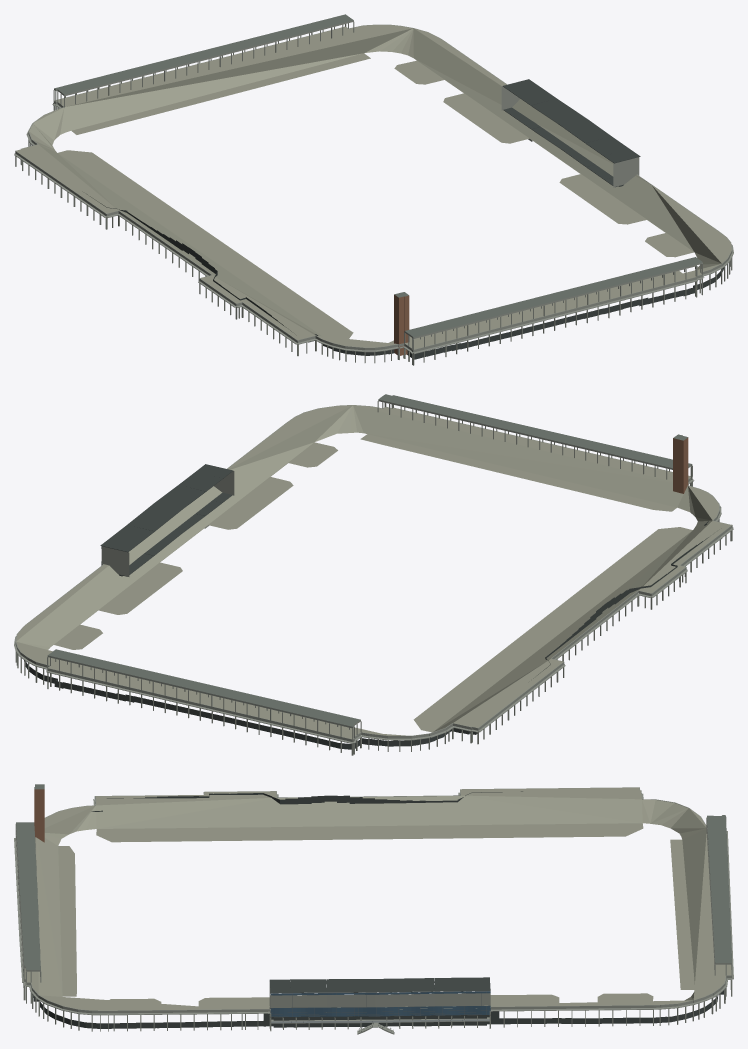
Rendered from great-strahov-stadium.glb.
3 views of the same model, one above another, from view 1: azimuth 30°, elevation 25°; view 2: azimuth 150°, elevation 25°; view 3: azimuth 270°, elevation 25° (orthographic). The views are drawn at different scales.
Visible parts, largest first — view 1: seat both, concrete both, stadium-soffit both, roof both, brick both; view 2: seat both, concrete both, stadium-soffit both, roof both, brick both; view 3: seat both, concrete both, stadium-soffit both, roof both, stadium-glass near, stadium-cladding both, brick both, stadium-frame both.
Boxes of the visible parts, bbox=[...] form: seat both: bbox=[16, 24, 731, 349]; concrete both: bbox=[14, 20, 733, 365]; stadium-soffit both: bbox=[87, 79, 723, 359]; roof both: bbox=[54, 14, 701, 337]; brick both: bbox=[394, 294, 409, 355]; seat both: bbox=[16, 405, 731, 740]; concrete both: bbox=[14, 399, 733, 755]; stadium-soffit both: bbox=[24, 464, 708, 749]; roof both: bbox=[48, 394, 691, 726]; brick both: bbox=[673, 437, 688, 493]; seat both: bbox=[24, 787, 731, 1010]; concrete both: bbox=[14, 787, 733, 1034]; stadium-soffit both: bbox=[33, 791, 723, 1028]; roof both: bbox=[16, 784, 731, 969]; stadium-glass near: bbox=[270, 991, 490, 1016]; stadium-cladding both: bbox=[271, 991, 490, 1023]; brick both: bbox=[34, 789, 44, 842]; stadium-frame both: bbox=[270, 991, 490, 1017].
Size of the model in its own units: 307 by 44.07 by 413.
